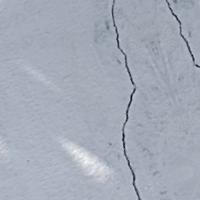crack: (100, 0, 199, 199)
